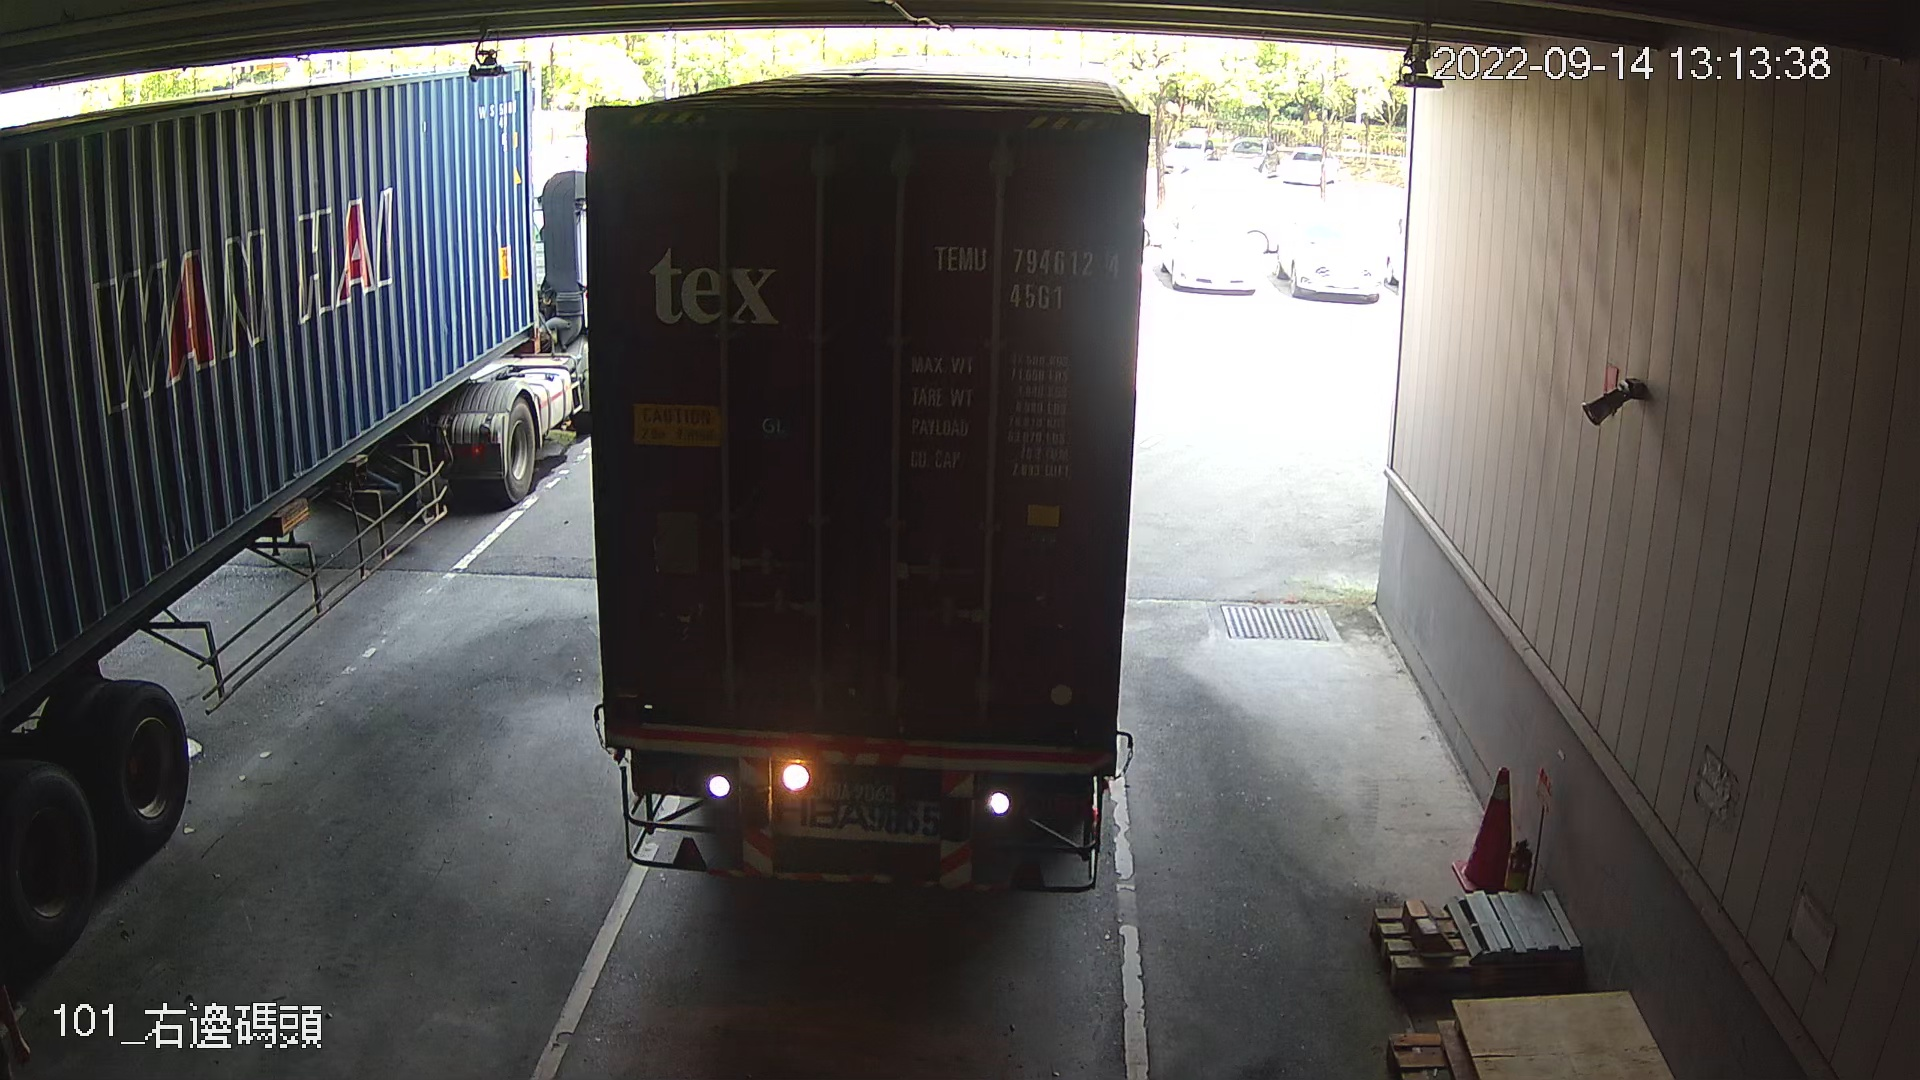container: (922, 229, 1131, 316)
